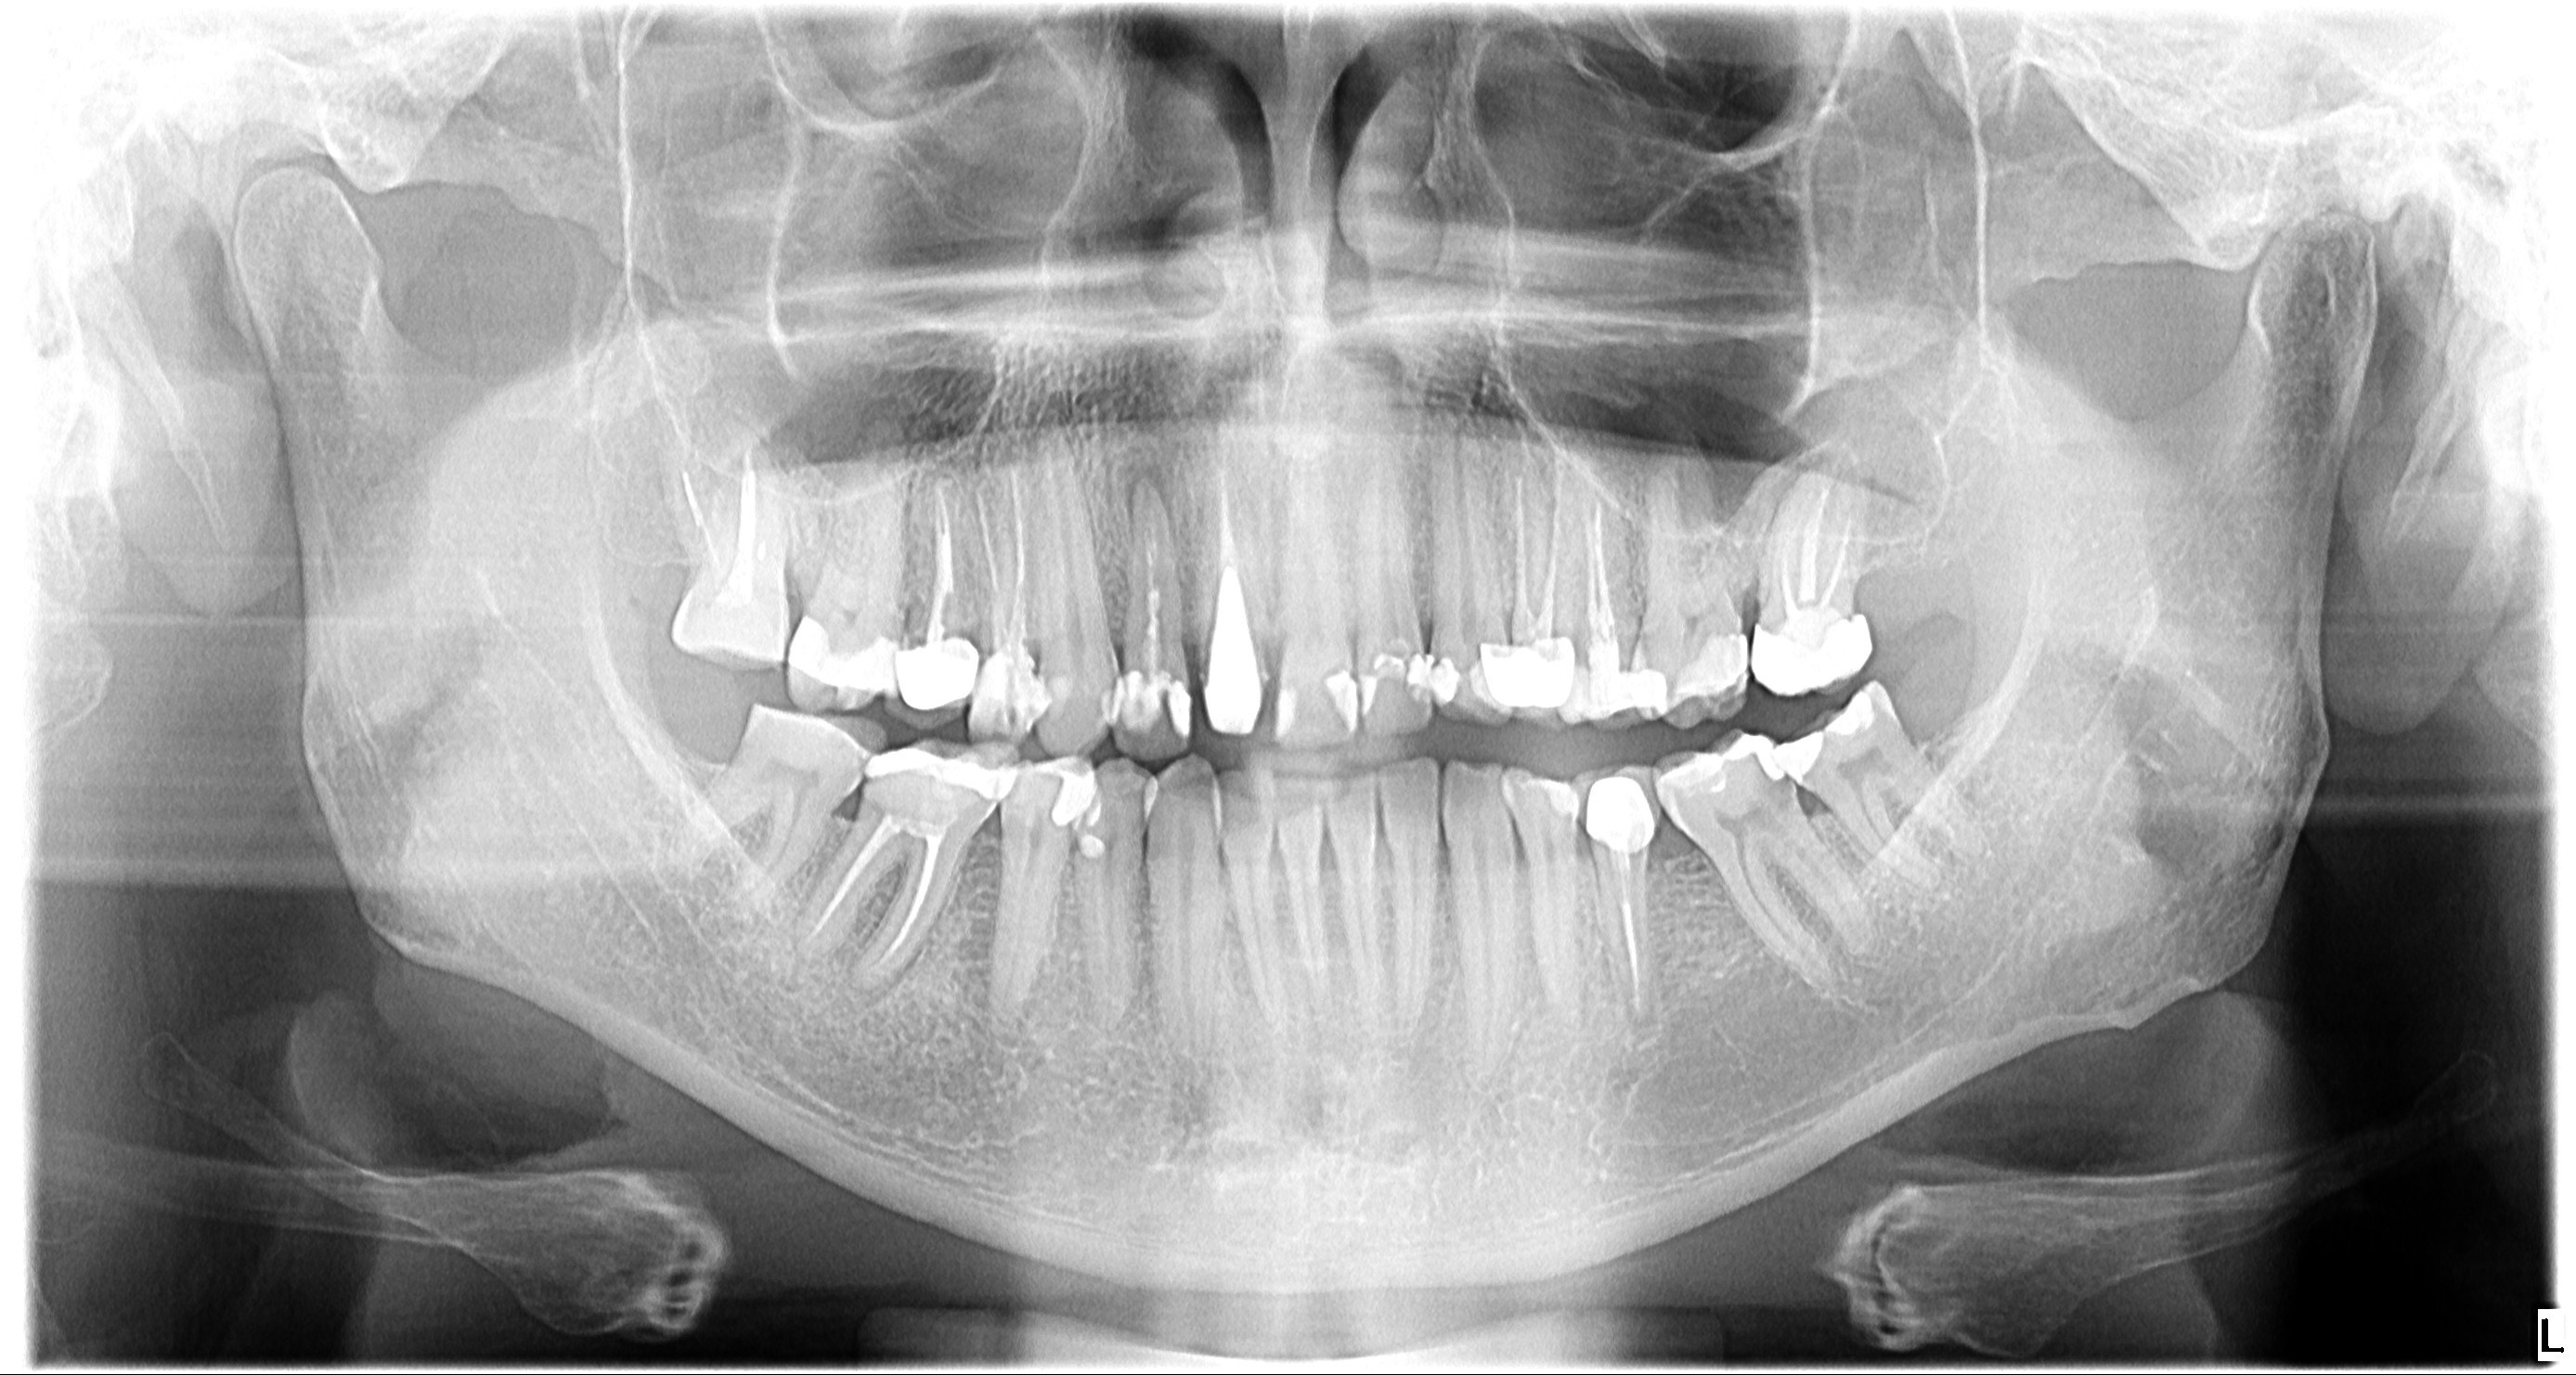END: (816, 820, 944, 966), (676, 452, 777, 603), (1504, 458, 1566, 647), (976, 470, 1032, 647), (1782, 487, 1850, 607), (911, 491, 961, 642), (1579, 499, 1622, 670), (1130, 513, 1170, 671), (1206, 448, 1252, 574), (1610, 849, 1644, 1010)
IMT: (1646, 828, 1692, 867), (1733, 584, 1763, 632), (1794, 789, 1837, 823)
OBT: (1753, 624, 1876, 695), (1206, 579, 1262, 731), (1578, 664, 1670, 733), (1586, 768, 1663, 843), (896, 644, 971, 716), (1491, 653, 1569, 711)
PRR: (871, 746, 1024, 806), (791, 620, 889, 688), (683, 605, 784, 670), (976, 651, 1049, 736), (1106, 675, 1189, 736), (1678, 636, 1746, 697), (1697, 734, 1780, 782), (1044, 758, 1097, 820), (1826, 693, 1889, 736), (1775, 734, 1825, 785), (1784, 610, 1838, 654), (1530, 774, 1578, 821), (1327, 664, 1356, 733), (1428, 658, 1463, 702), (1395, 644, 1426, 695), (1273, 685, 1298, 741), (1360, 666, 1378, 738), (1073, 826, 1102, 864)
